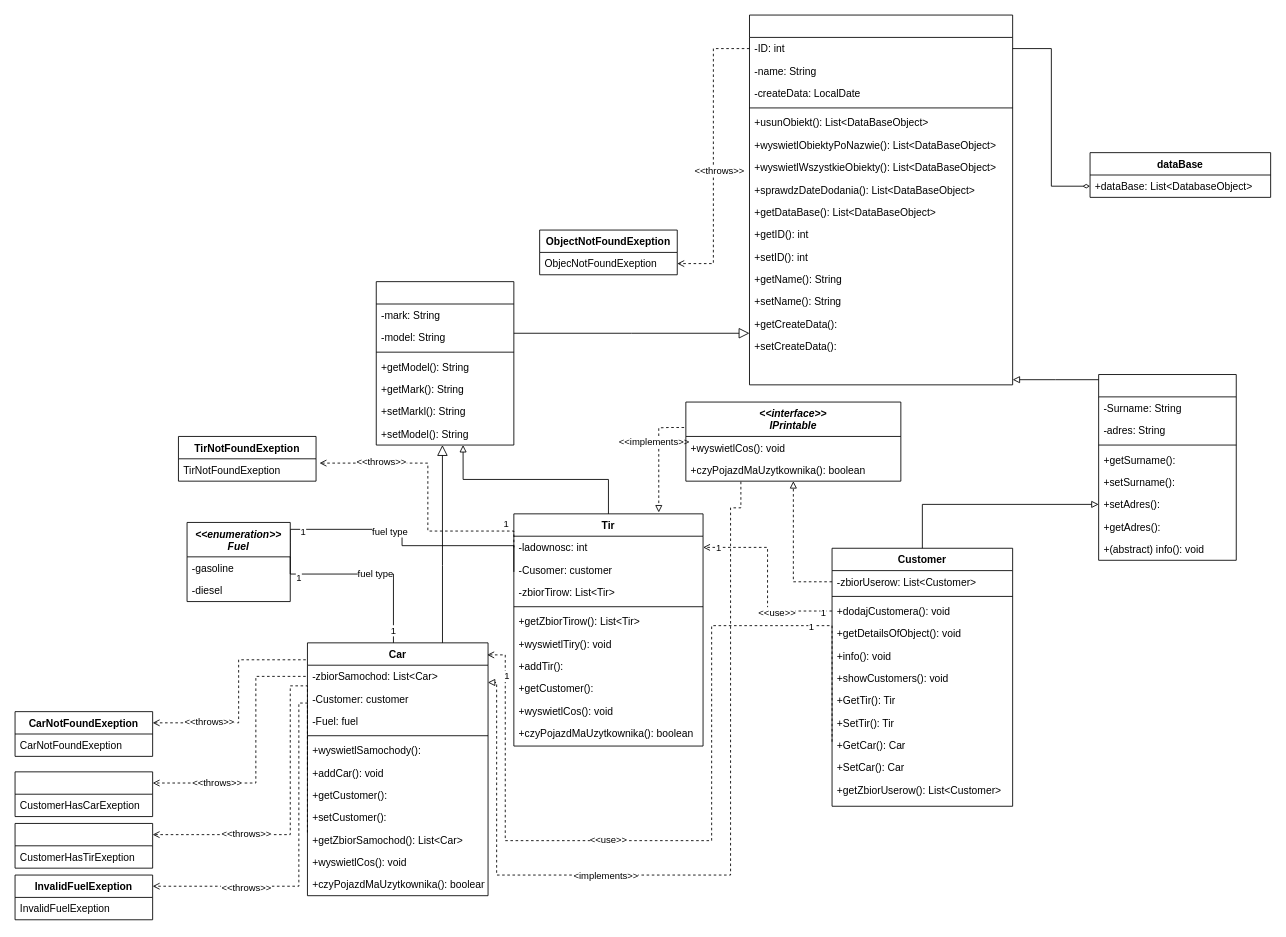
This 1286x937 diagram has some shape labels left out. The box of each missing label's shape, as (x1, y1, x2, y2) in pixels:
CustomerHasCarExeptioon: (14, 771, 153, 817)
CustomerHasTirExeptioon: (14, 823, 153, 868)
DataBaseObject: (749, 14, 1013, 385)
Person: (1098, 374, 1236, 560)
Vehicle: (375, 281, 514, 445)
